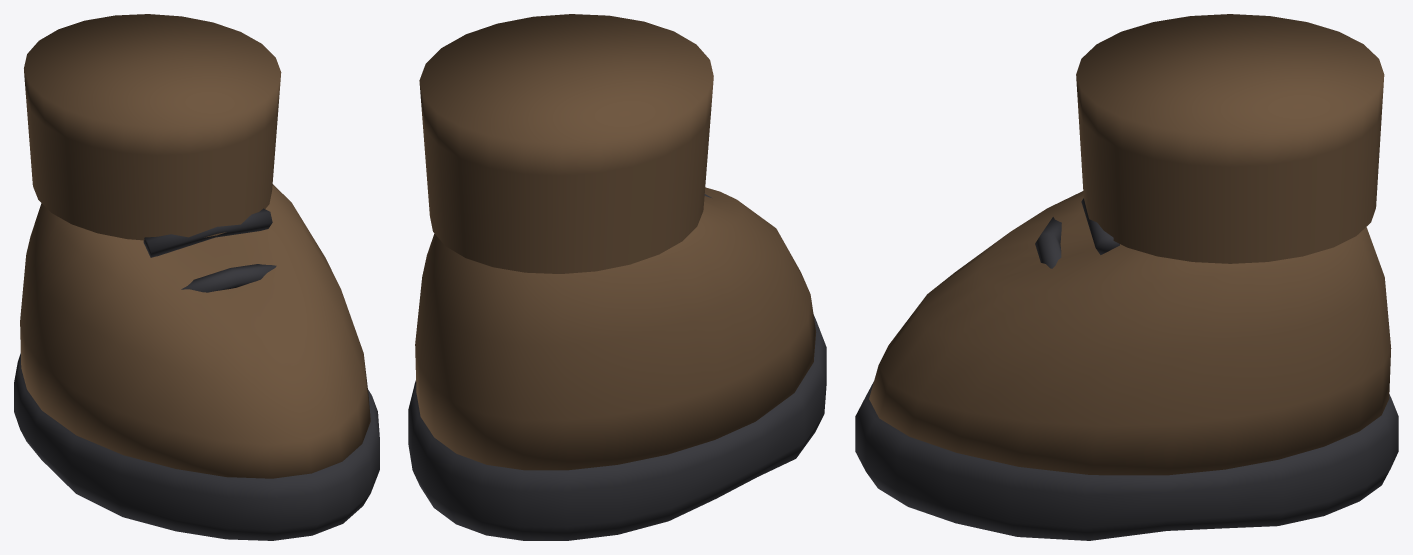
The model's file is calzado_botas.glb.
3 views of the same model, side by side, from view 1: azimuth 30°, elevation 25°; view 2: azimuth 150°, elevation 25°; view 3: azimuth 270°, elevation 25° (orthographic). The views are drawn at different scales.
Visible parts, largest first — view 1: pieza; view 2: pieza; view 3: pieza.
Part boxes in pixels (x1,y1,x2,y2): pieza: (14,14,379,540); pieza: (408,14,826,540); pieza: (855,14,1398,540).
Size of the model in its own units: 0.2698 by 0.31 by 0.387.
